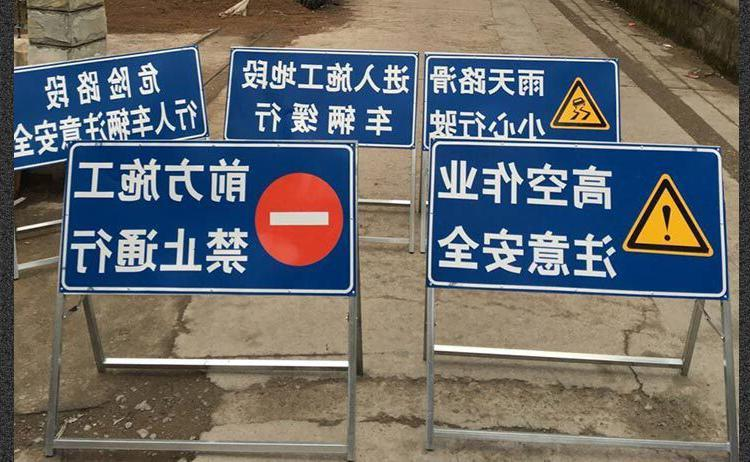sign: (433, 140, 726, 295), (67, 142, 357, 295), (15, 47, 205, 159), (422, 56, 621, 159), (226, 48, 414, 148)
